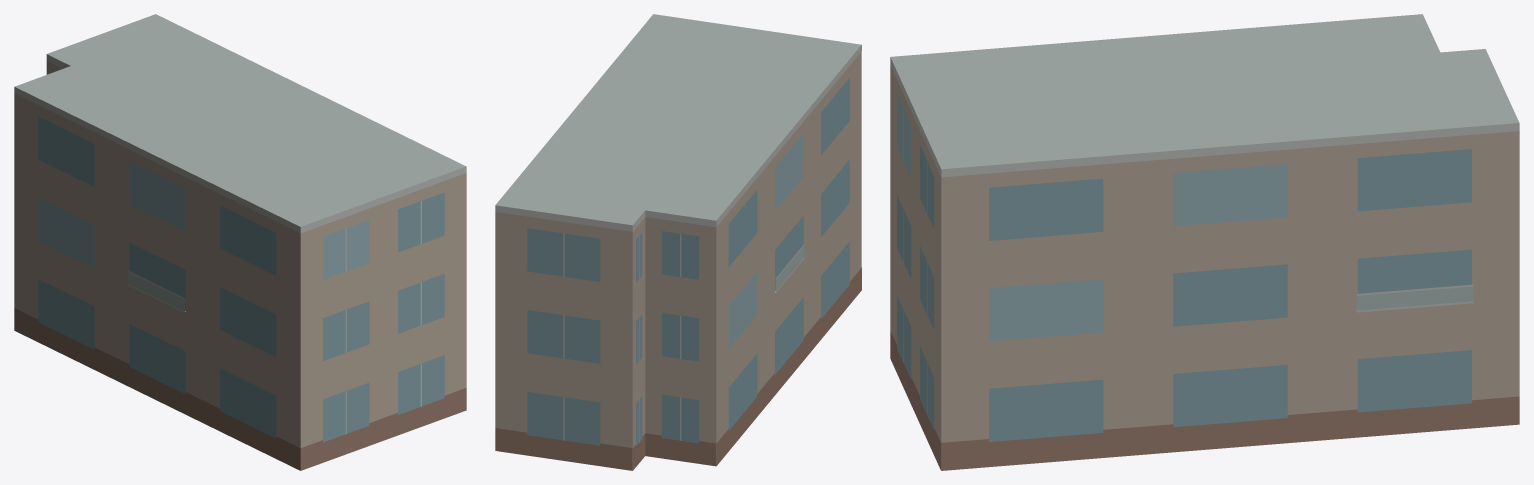
The model's file is survey-upis-32707325.glb.
3 views of the same model, side by side, from view 1: azimuth 30°, elevation 25°; view 2: azimuth 150°, elevation 25°; view 3: azimuth 270°, elevation 25° (orthographic). The views are drawn at different scales.
Parts seen in each view (by area): view 1: survey-upis-32707325.tmp; view 2: survey-upis-32707325.tmp; view 3: survey-upis-32707325.tmp.
Boxes of the visible parts, x1,y1,x2,y2 form: survey-upis-32707325.tmp: (14,14,466,470); survey-upis-32707325.tmp: (495,14,861,470); survey-upis-32707325.tmp: (890,14,1519,470).
Size of the model in its own units: 10.11 by 9.15 by 17.31.
